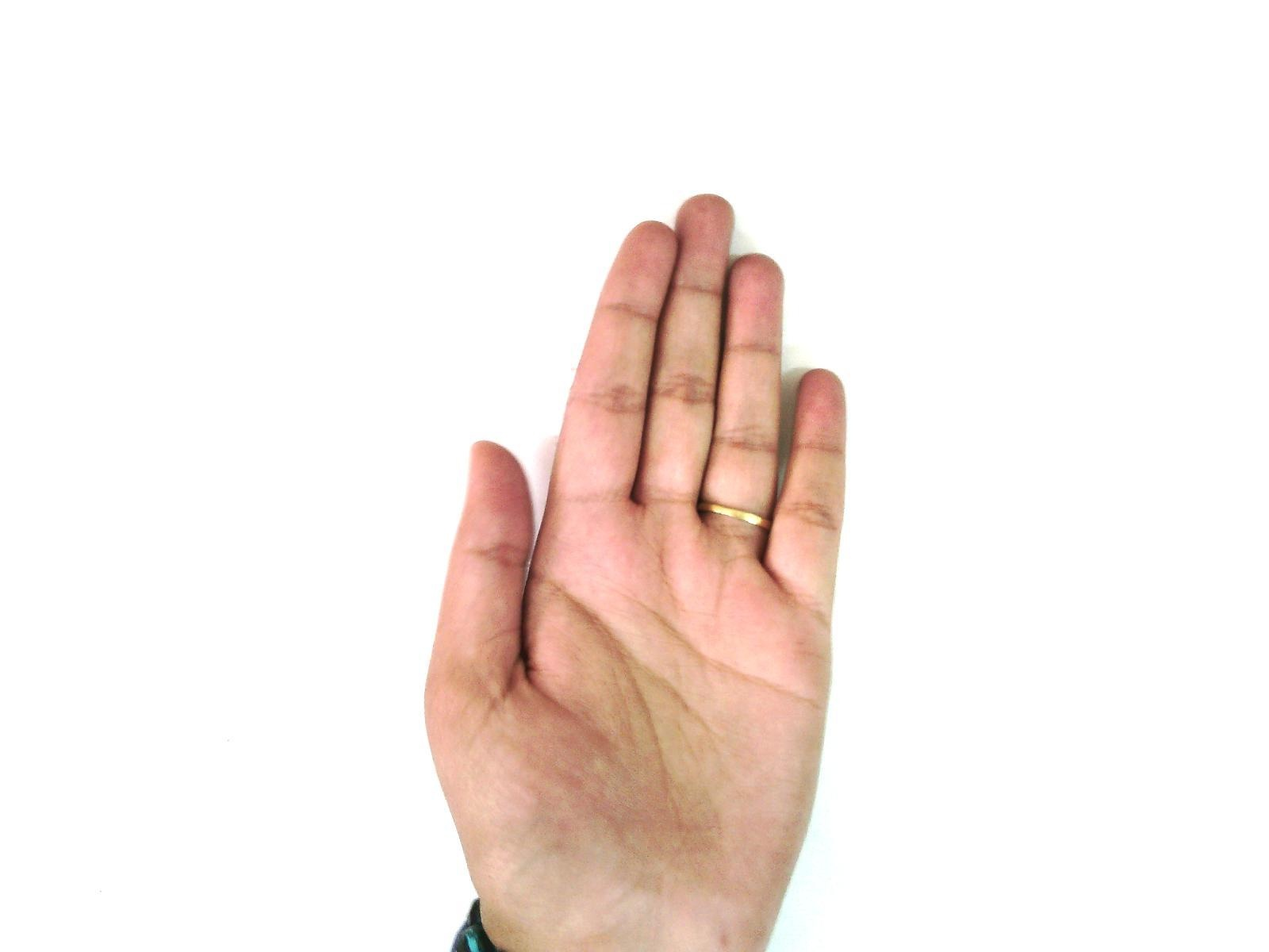open_palm: (421, 193, 851, 950)
